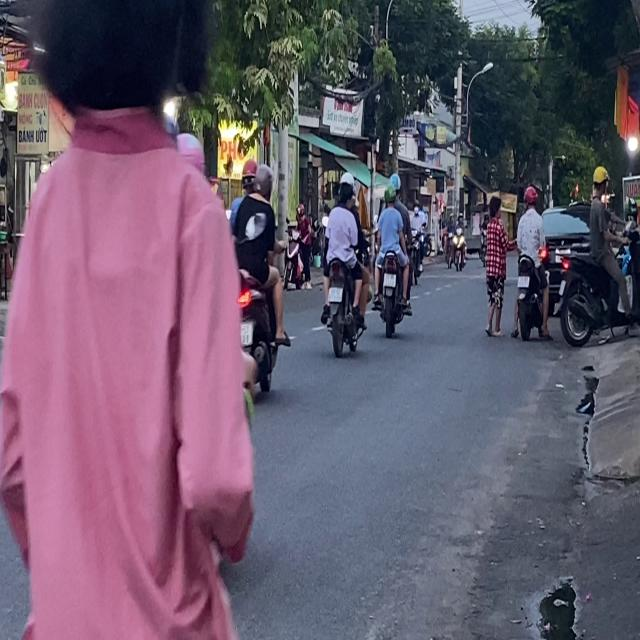helmet: (255, 162, 273, 198), (240, 157, 258, 192), (591, 165, 609, 199), (337, 171, 354, 202), (337, 178, 354, 208), (523, 184, 537, 209), (386, 172, 400, 196), (384, 181, 397, 205)
licenseplate: (230, 155, 290, 400), (318, 170, 368, 356), (371, 172, 412, 335), (512, 183, 550, 341)
nohelmet: (328, 286, 342, 302), (383, 272, 396, 288), (517, 276, 529, 288)
